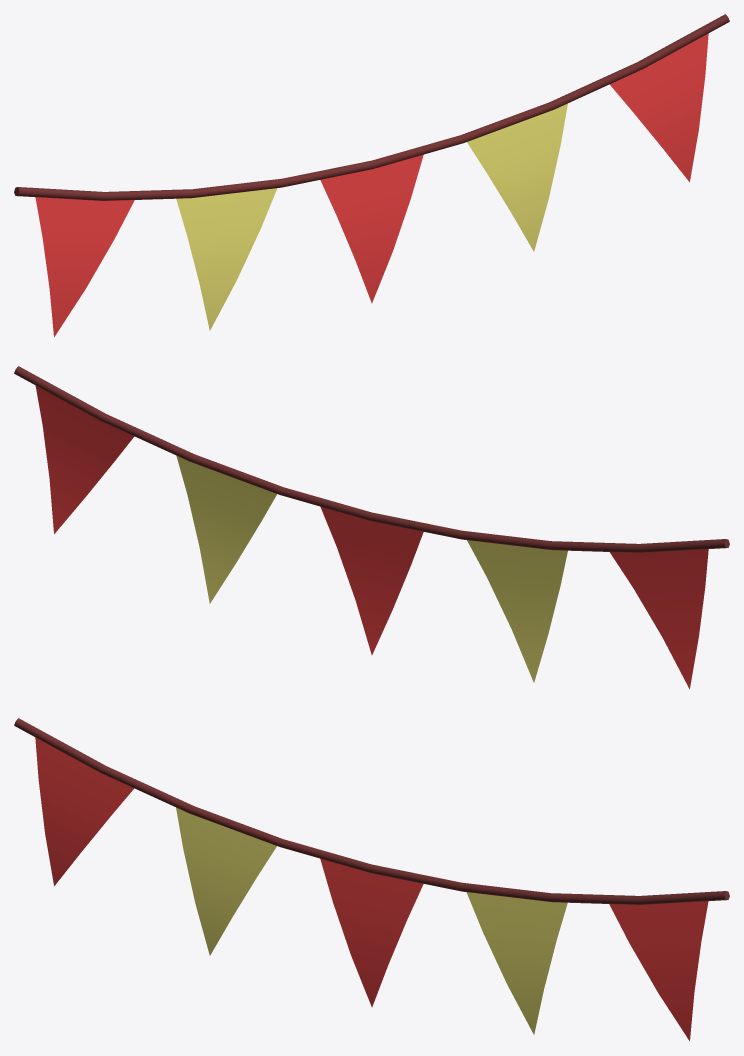
File: Bunting_MDL.fbx
3 views of the same model, one above another, from view 1: azimuth 30°, elevation 25°; view 2: azimuth 150°, elevation 25°; view 3: azimuth 330°, elevation 25° (orthographic).
Parts seen in each view (by area): view 1: Bunting_MDL; view 2: Bunting_MDL; view 3: Bunting_MDL.
Part boxes in pixels (bbox=[...]): Bunting_MDL: bbox=[14, 14, 729, 337]; Bunting_MDL: bbox=[14, 366, 729, 689]; Bunting_MDL: bbox=[14, 718, 729, 1041].
Bounding box in the file's own units: 1.99 × 0.5425 × 0.0209.
